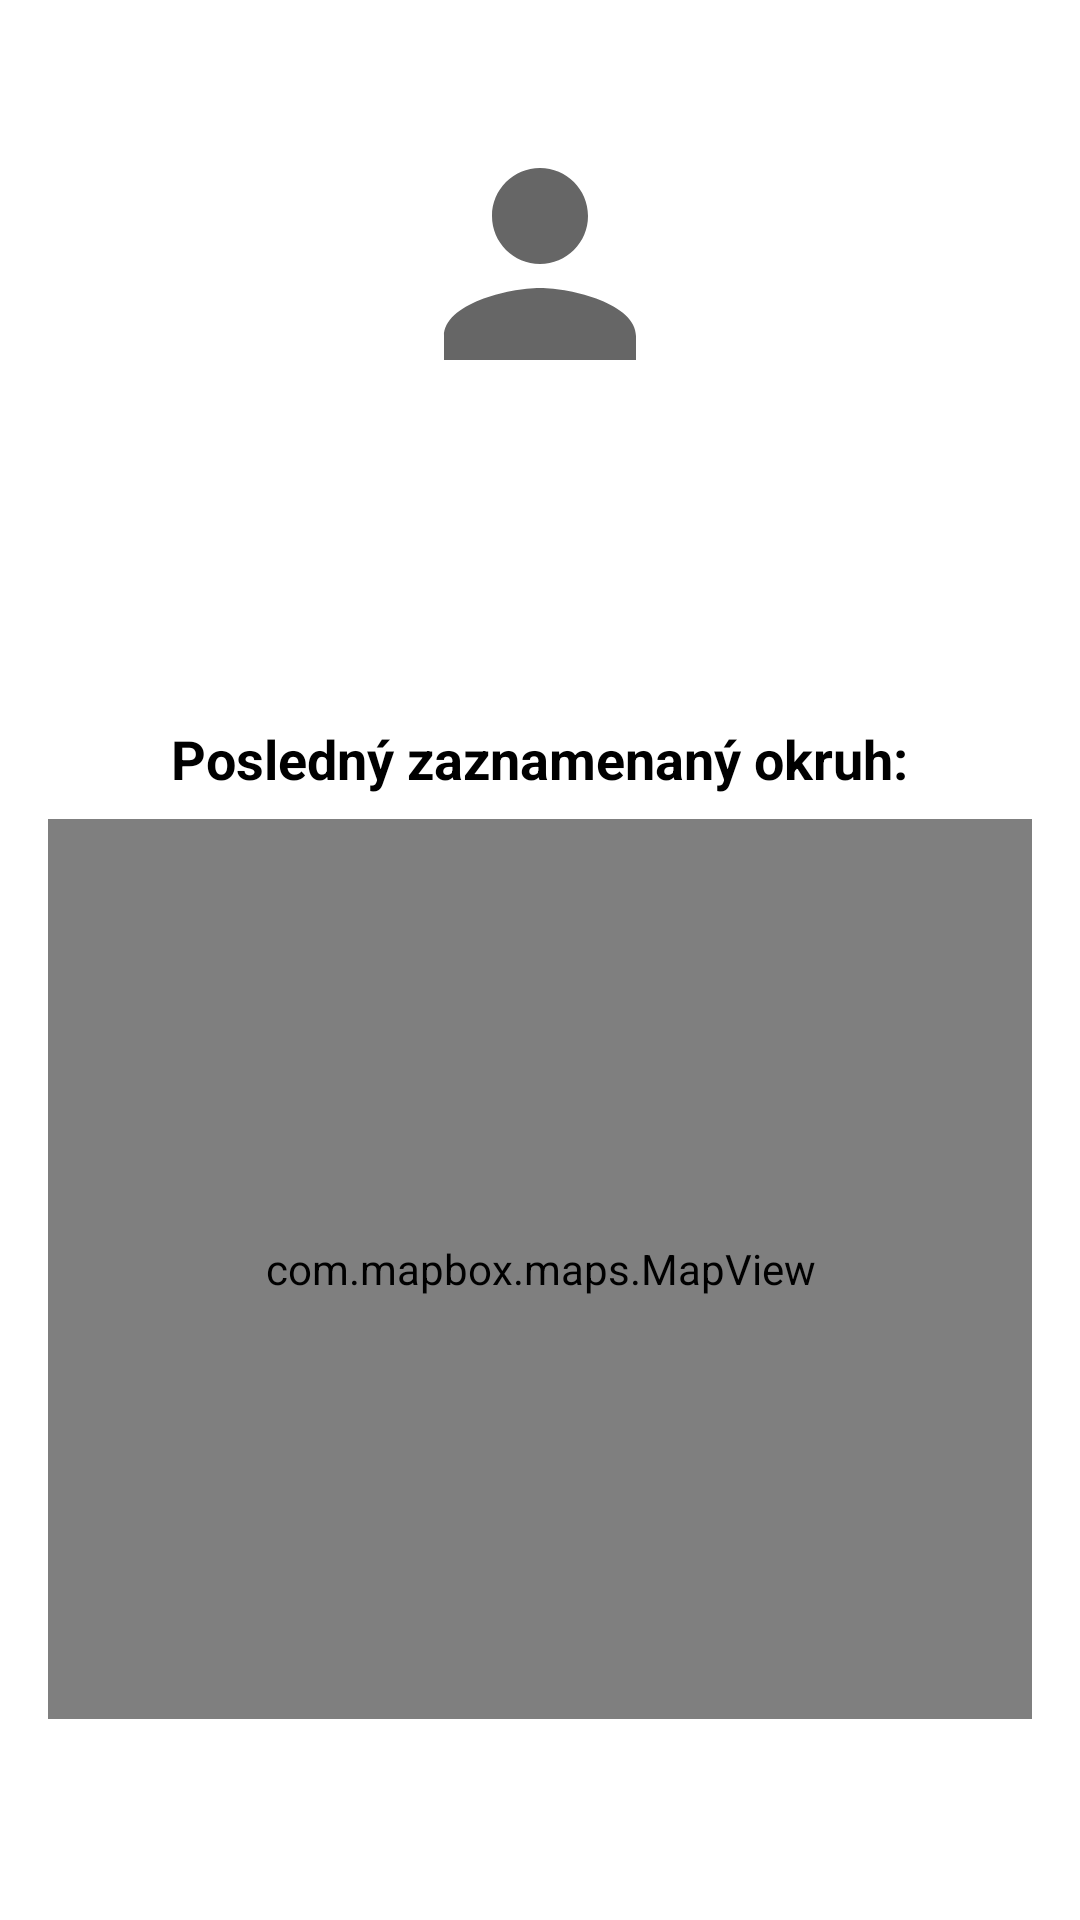

Named icons in this screenshot (1080×1920) and their centers, (x=x, y=y):
Profilová fotka: (x=540, y=264)
